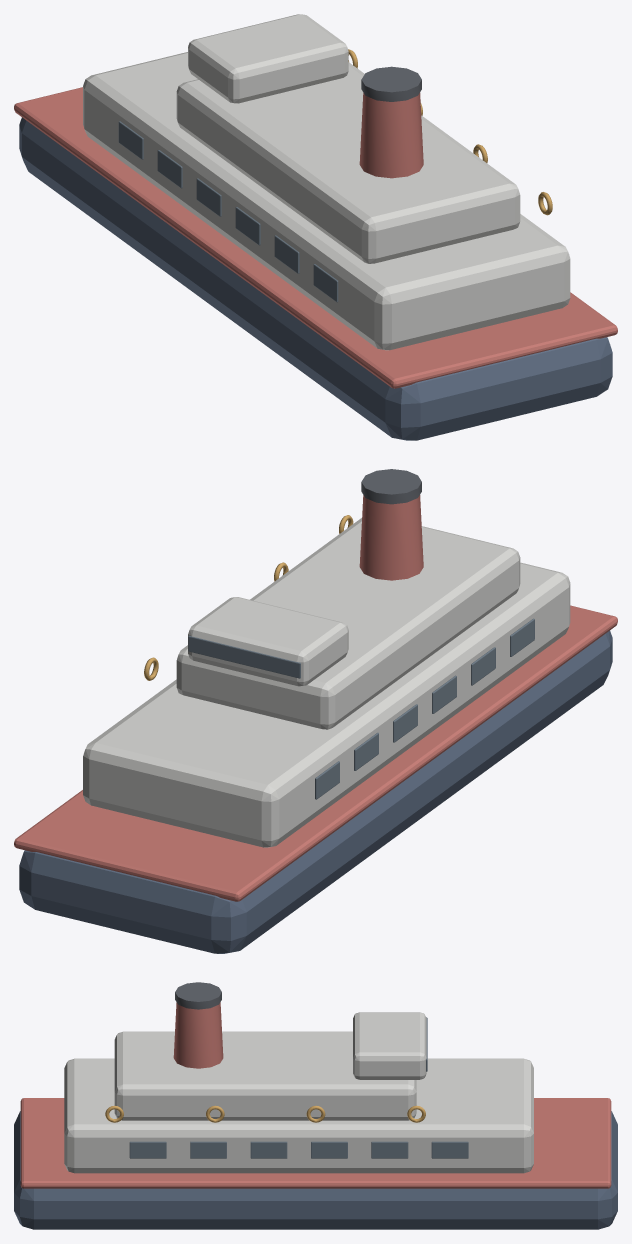
File: ferry.glb
3 renders of one model, top to bottom at view 1: azimuth 30°, elevation 25°; view 2: azimuth 150°, elevation 25°; view 3: azimuth 270°, elevation 25°, orthographic. The views are drawn at different scales.
Parts seen in each view (by area): view 1: ferry_Palette; view 2: ferry_Palette; view 3: ferry_Palette.
Boxes of the visible parts, x1,y1,x2,y2 form: ferry_Palette: [14, 14, 617, 440]; ferry_Palette: [14, 469, 617, 953]; ferry_Palette: [14, 982, 617, 1229].
Bounding box in the file's own units: 6.05 × 6.68 × 18.
